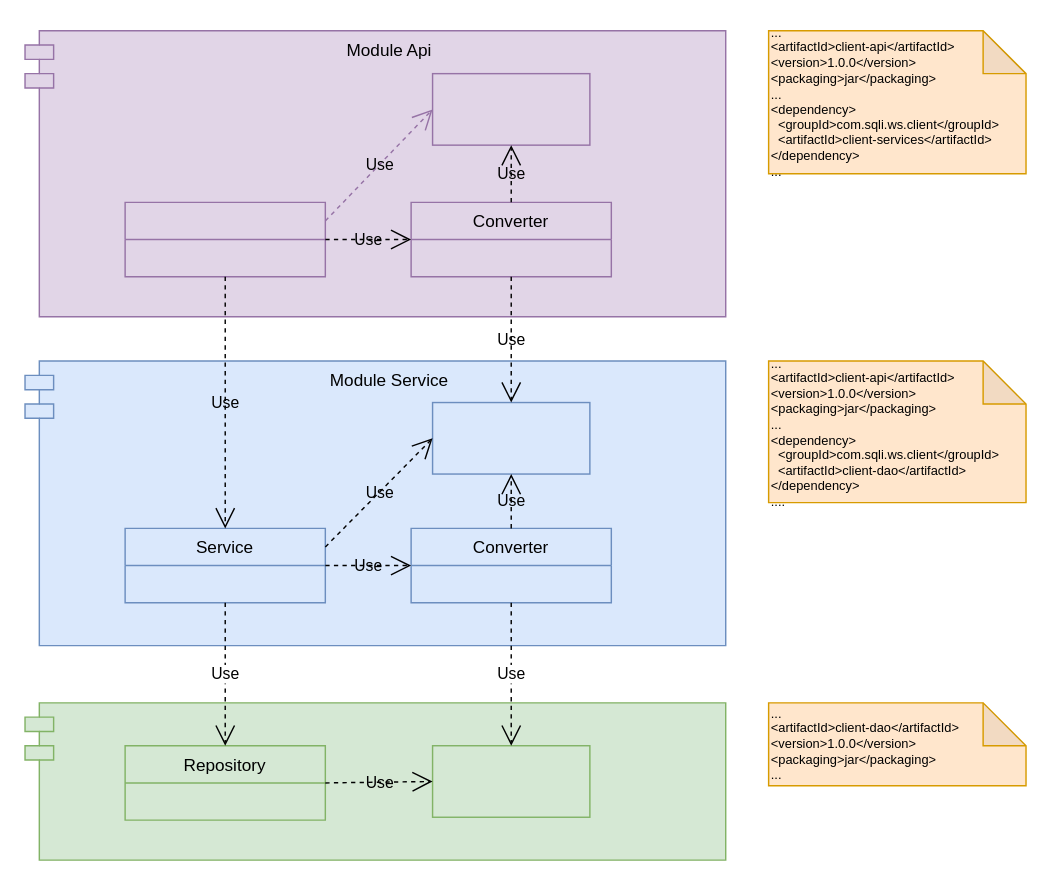
The diagram is 1051 pixels wide and 885 high, and some of its shapes have lost their labels. The shapes that lost their labels are listed below. From the top down, each one's box as (x1, y1, x2, y2) in pixels, then its label:
(431, 72, 590, 145): DTO
(124, 201, 325, 277): Controller
(431, 401, 590, 474): Object
(24, 701, 726, 860): Module DAO
(431, 744, 590, 817): Entity
